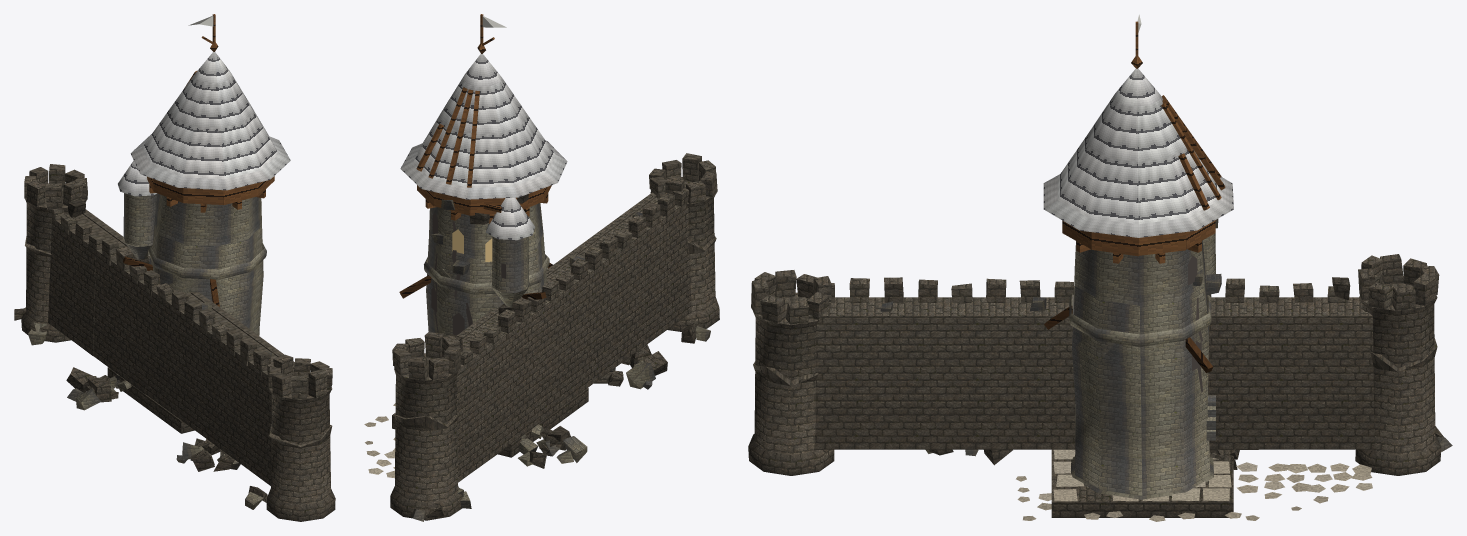
The model's file is castle.glb.
3 views of the same model, side by side, from view 1: azimuth 30°, elevation 25°; view 2: azimuth 150°, elevation 25°; view 3: azimuth 270°, elevation 25° (orthographic). The views are drawn at different scales.
Visible parts, largest first — view 1: castle_s0, castle_s2, castle_s3; view 2: castle_s0, castle_s2, castle_s3; view 3: castle_s0, castle_s2, castle_s3.
Boxes of the visible parts, box(x1,y1,x2,y2) form: castle_s0: box(21, 14, 335, 521); castle_s2: box(14, 36, 213, 402); castle_s3: box(76, 245, 332, 509); castle_s0: box(364, 14, 719, 520); castle_s2: box(394, 37, 573, 521); castle_s3: box(399, 236, 716, 462); castle_s0: box(748, 14, 1441, 521); castle_s2: box(1161, 95, 1452, 452); castle_s3: box(753, 294, 1239, 469).
Bounding box in the file's own units: 6.94 × 13.88 × 18.58.
Materials: 8 (5 with a texture image).
